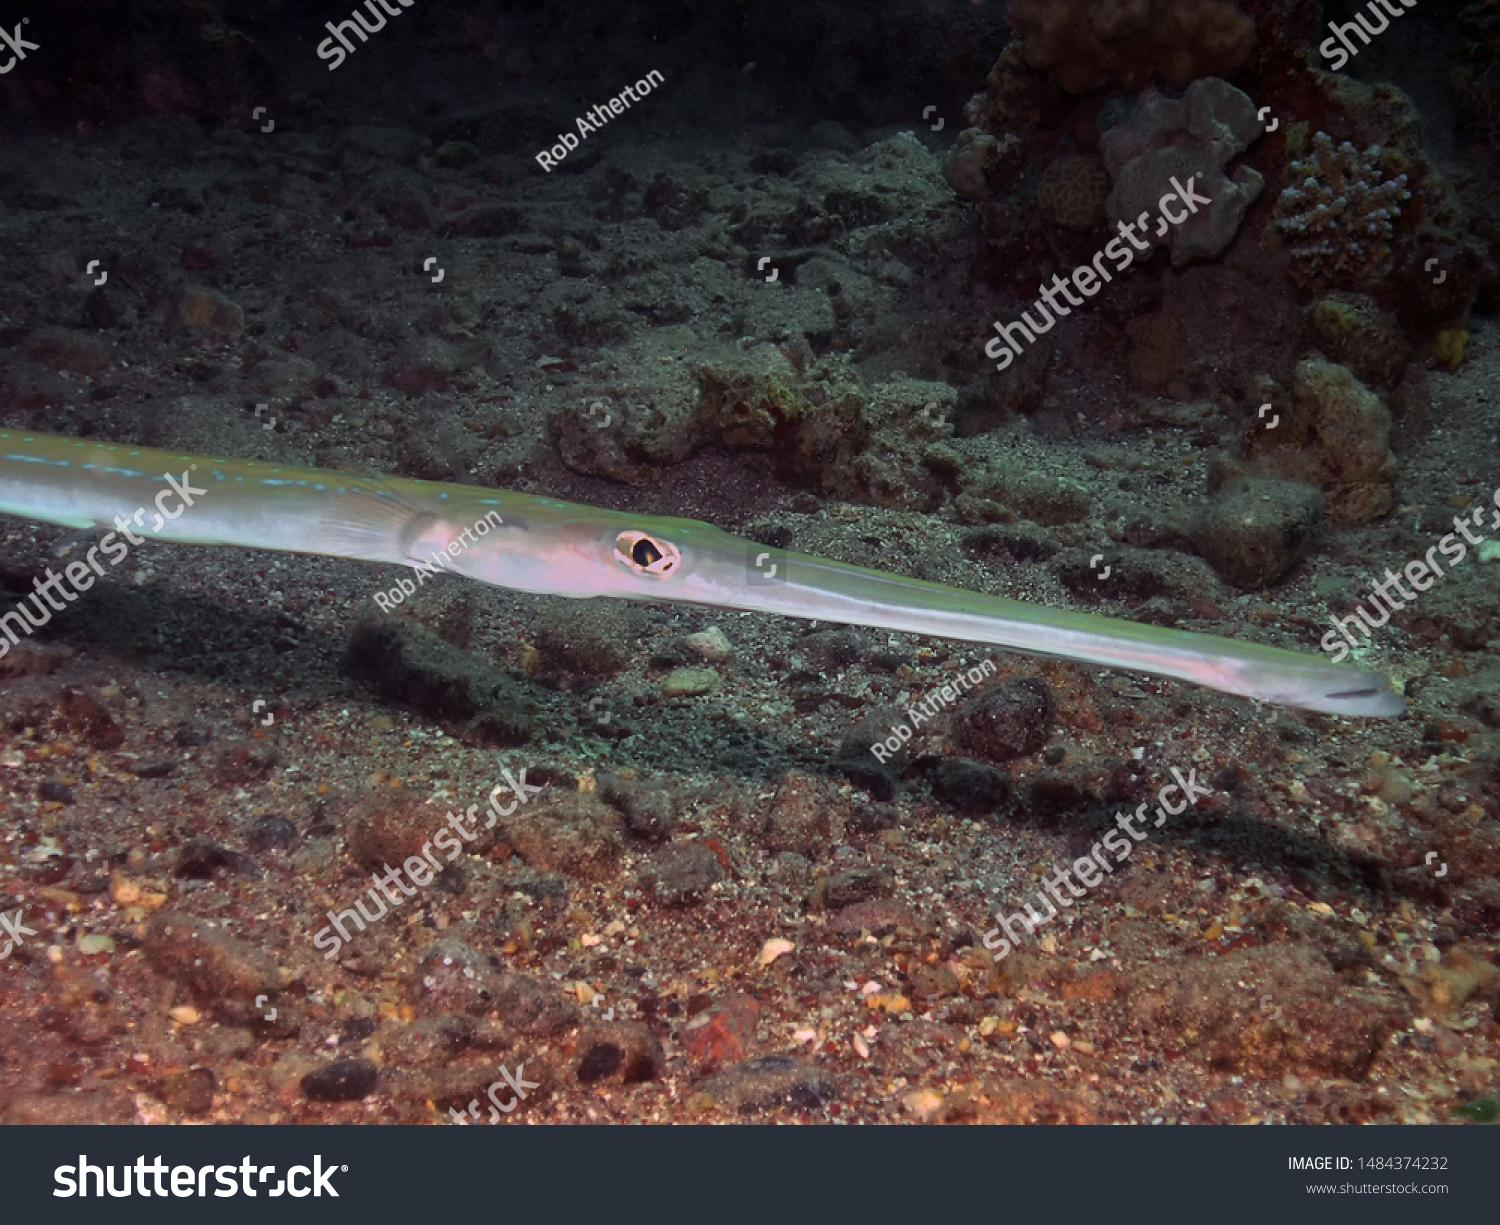Fistularia commersonii: (2, 422, 1412, 725)
